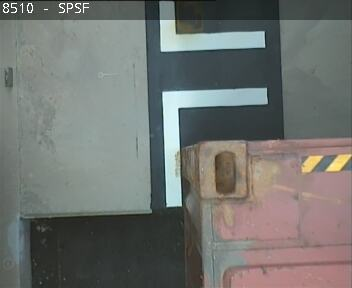groundmarker_1: (159, 1, 266, 207)
